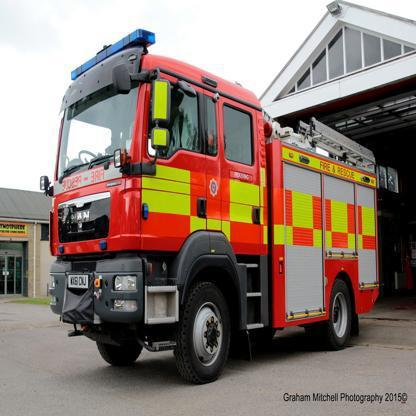fire-truck: (36, 17, 387, 388)
